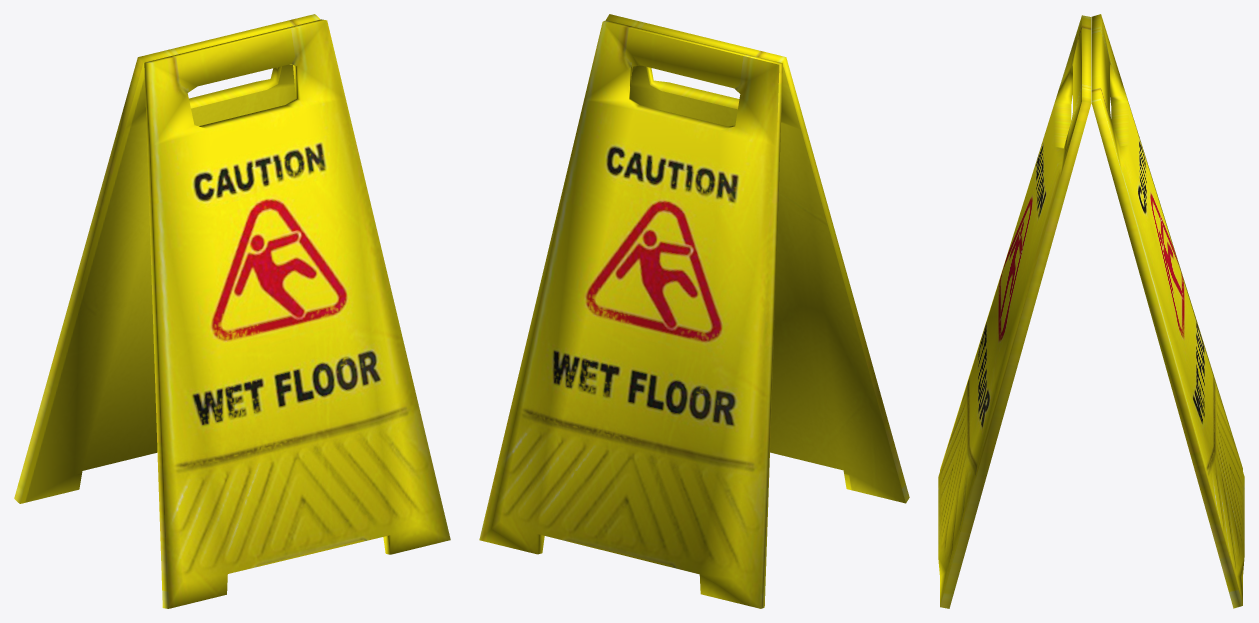
Rendered from wet_floor_sign.glb.
3 views of the same model, side by side, from view 1: azimuth 30°, elevation 25°; view 2: azimuth 150°, elevation 25°; view 3: azimuth 270°, elevation 25° (orthographic).
Parts seen in each view (by area): view 1: Box007; view 2: Box007; view 3: Box007.
Boxes of the visible parts, <box> form: Box007: <box>14,14,450,608</box>; Box007: <box>479,14,909,608</box>; Box007: <box>938,14,1244,608</box>.
Size of the model in its own units: 30.41 by 49.22 by 28.36.
Materials: 1 (1 with a texture image).
